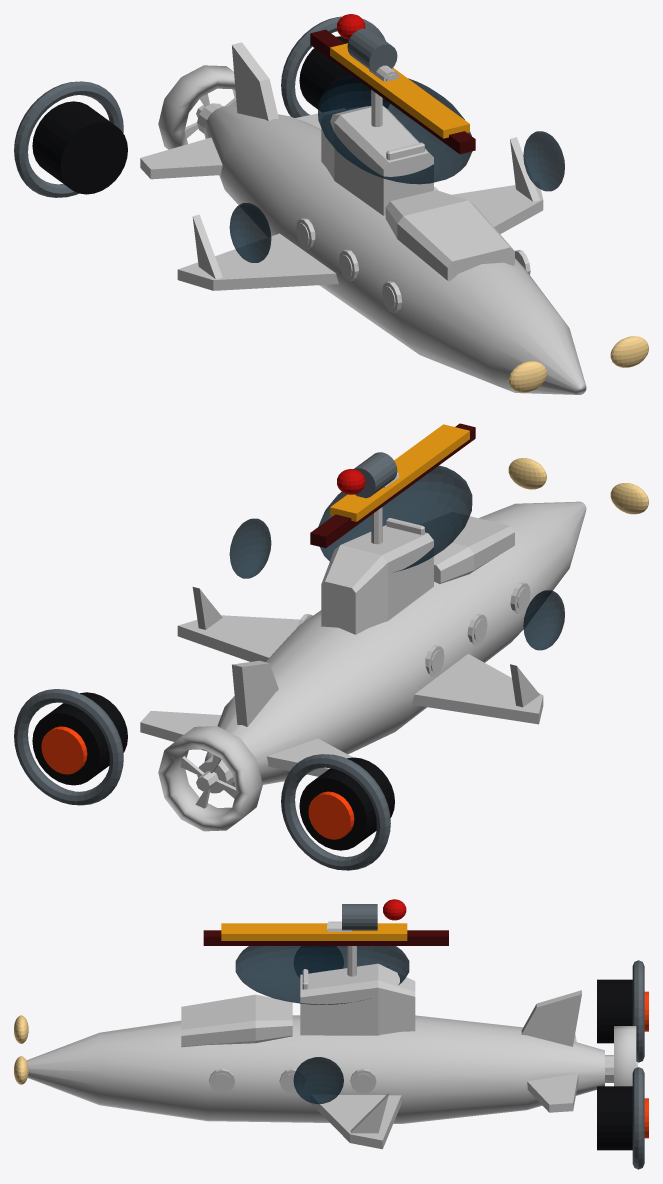
File: cb_submarino_detallado.obj
The picture shows the model from 3 angles, top to bottom: view 1: azimuth 30°, elevation 25°; view 2: azimuth 150°, elevation 25°; view 3: azimuth 270°, elevation 25°; orthographic projection. The views are drawn at different scales.
Visible parts, largest first — view 1: cb_submarino, Cowboy_Sub_Propeller_L, Cowboy_Sub_Canopy, Cowboy_Sub_Guard_L, Cowboy_Sub_YellowSpine, Cowboy_Sub_Propeller_R, Cowboy_Sub_Porthole_R, Cowboy_Sub_Porthole_L, Cowboy_Sub_Guard_R, Cowboy_Sub_DorsalRail, Cowboy_Sub_Sonar, Cowboy_Sub_Headlight_L (+1 smaller); view 2: cb_submarino, Cowboy_Sub_Canopy, Cowboy_Sub_Guard_L, Cowboy_Sub_Guard_R, Cowboy_Sub_Propeller_L, Cowboy_Sub_Propeller_R, Cowboy_Sub_YellowSpine, Cowboy_Sub_Porthole_R, Cowboy_Sub_Porthole_L, Cowboy_Sub_Core_L, Cowboy_Sub_Core_R, Cowboy_Sub_DorsalRail (+3 smaller); view 3: cb_submarino, Cowboy_Sub_Canopy, Cowboy_Sub_YellowSpine, Cowboy_Sub_Propeller_R, Cowboy_Sub_Propeller_L, Cowboy_Sub_DorsalRail, Cowboy_Sub_Porthole_R, Cowboy_Sub_Guard_R, Cowboy_Sub_Guard_L, Cowboy_Sub_Sonar, Cowboy_Sub_RedBeacon.
Part boxes in pixels (x1,y1,x2,y2): cb_submarino: (140,42,586,394); Cowboy_Sub_Propeller_L: (32,101,127,194); Cowboy_Sub_Canopy: (318,75,472,184); Cowboy_Sub_Guard_L: (14,81,123,197); Cowboy_Sub_YellowSpine: (330,43,469,138); Cowboy_Sub_Propeller_R: (299,36,389,111); Cowboy_Sub_Porthole_R: (523,131,564,191); Cowboy_Sub_Porthole_L: (229,203,271,262); Cowboy_Sub_Guard_R: (281,16,385,117); Cowboy_Sub_DorsalRail: (310,29,475,154); Cowboy_Sub_Sonar: (347,28,397,73); Cowboy_Sub_Headlight_L: (508,361,546,392); cb_submarino: (140,472,586,831); Cowboy_Sub_Canopy: (318,465,472,572); Cowboy_Sub_Guard_L: (281,754,390,870); Cowboy_Sub_Guard_R: (14,689,123,805); Cowboy_Sub_Propeller_L: (299,757,394,850); Cowboy_Sub_Propeller_R: (32,692,127,785); Cowboy_Sub_YellowSpine: (330,424,469,521); Cowboy_Sub_Porthole_R: (229,518,271,578); Cowboy_Sub_Porthole_L: (523,590,564,650); Cowboy_Sub_Core_L: (308,791,354,839); Cowboy_Sub_Core_R: (41,726,87,774); Cowboy_Sub_DorsalRail: (310,423,475,548); cb_submarino: (26,921,637,1149); Cowboy_Sub_Canopy: (235,946,409,1004); Cowboy_Sub_YellowSpine: (221,923,407,940); Cowboy_Sub_Propeller_R: (597,1086,632,1150); Cowboy_Sub_Propeller_L: (597,979,632,1043); Cowboy_Sub_DorsalRail: (203,930,448,945); Cowboy_Sub_Porthole_R: (293,1057,343,1104); Cowboy_Sub_Guard_R: (632,1067,644,1169); Cowboy_Sub_Guard_L: (632,960,644,1062); Cowboy_Sub_Sonar: (342,904,377,930); Cowboy_Sub_RedBeacon: (383,899,406,920).
Bounding box in the file's own units: 4.78 × 3.22 × 8.54.
